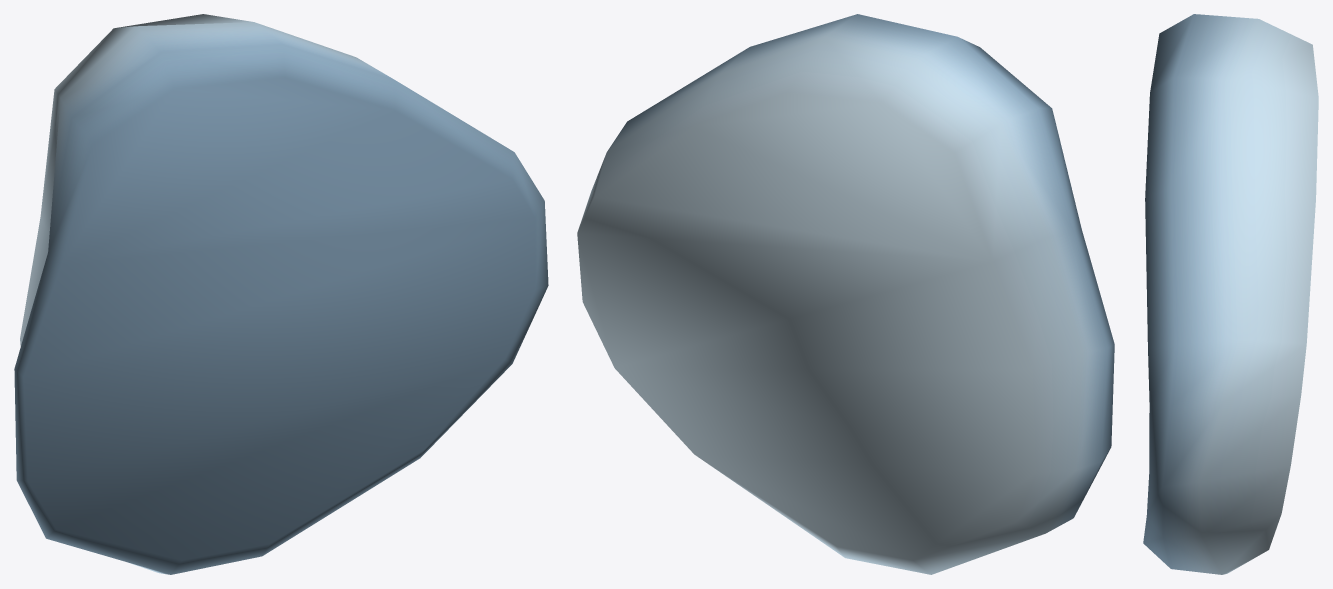
Rendered from Snow Clump 01.FBX.
3 renders of one model, left to right at view 1: azimuth 30°, elevation 25°; view 2: azimuth 150°, elevation 25°; view 3: azimuth 270°, elevation 25°, orthographic. The views are drawn at different scales.
Visible parts, largest first — view 1: Snow Clump 01; view 2: Snow Clump 01; view 3: Snow Clump 01.
Part boxes in pixels (left/top/right/bottom): Snow Clump 01: left=14, top=14, right=548, bottom=574; Snow Clump 01: left=577, top=14, right=1114, bottom=574; Snow Clump 01: left=1143, top=14, right=1318, bottom=574.
Size of the model in its own units: 192 by 190 by 58.73.
Materials: 1 (1 with a texture image).
